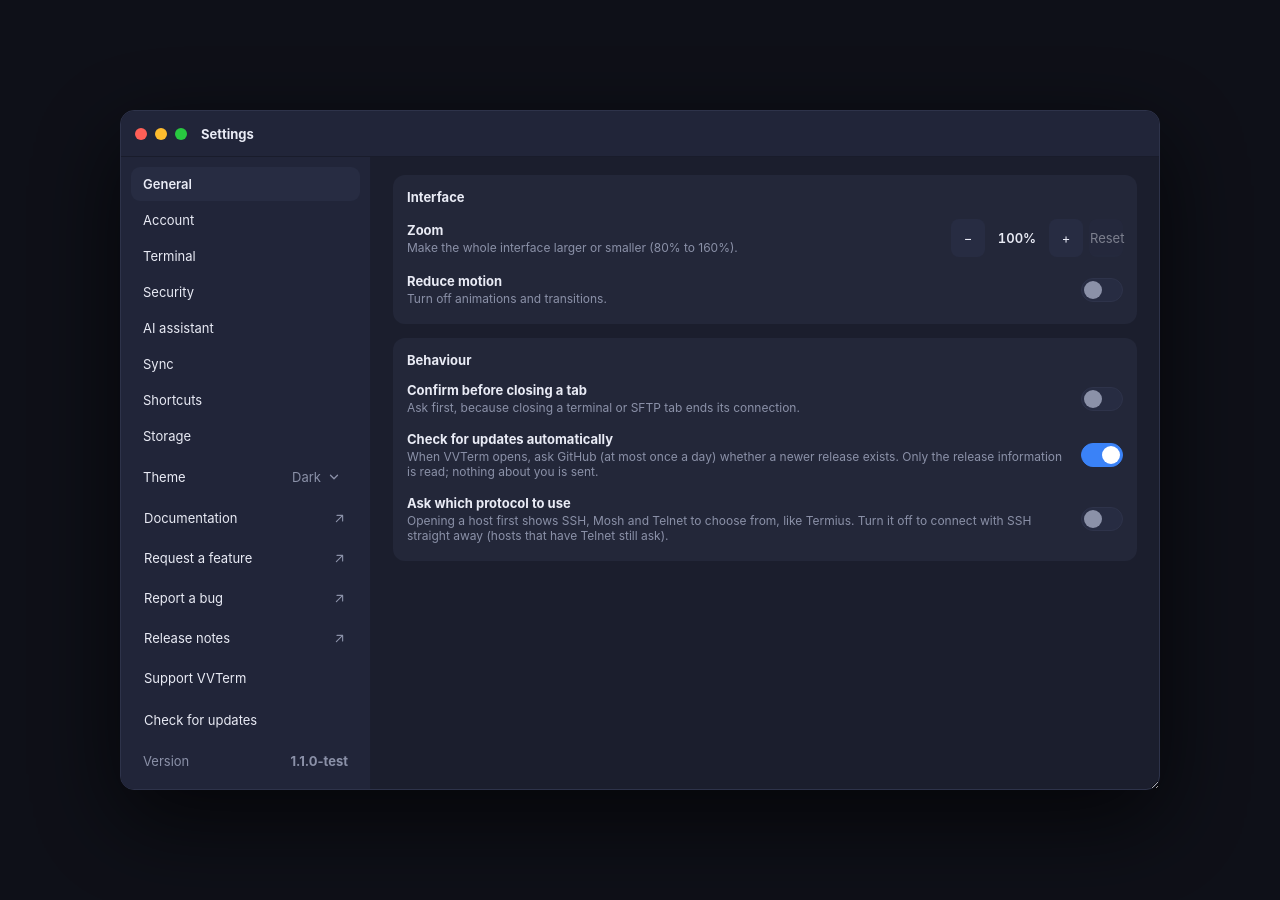
SettingsWindow › shows a backend validation error as a toast and keeps the old value
Click the tab "Terminal".
click(246, 256)  # box x1=131 y1=239 x2=360 y2=273
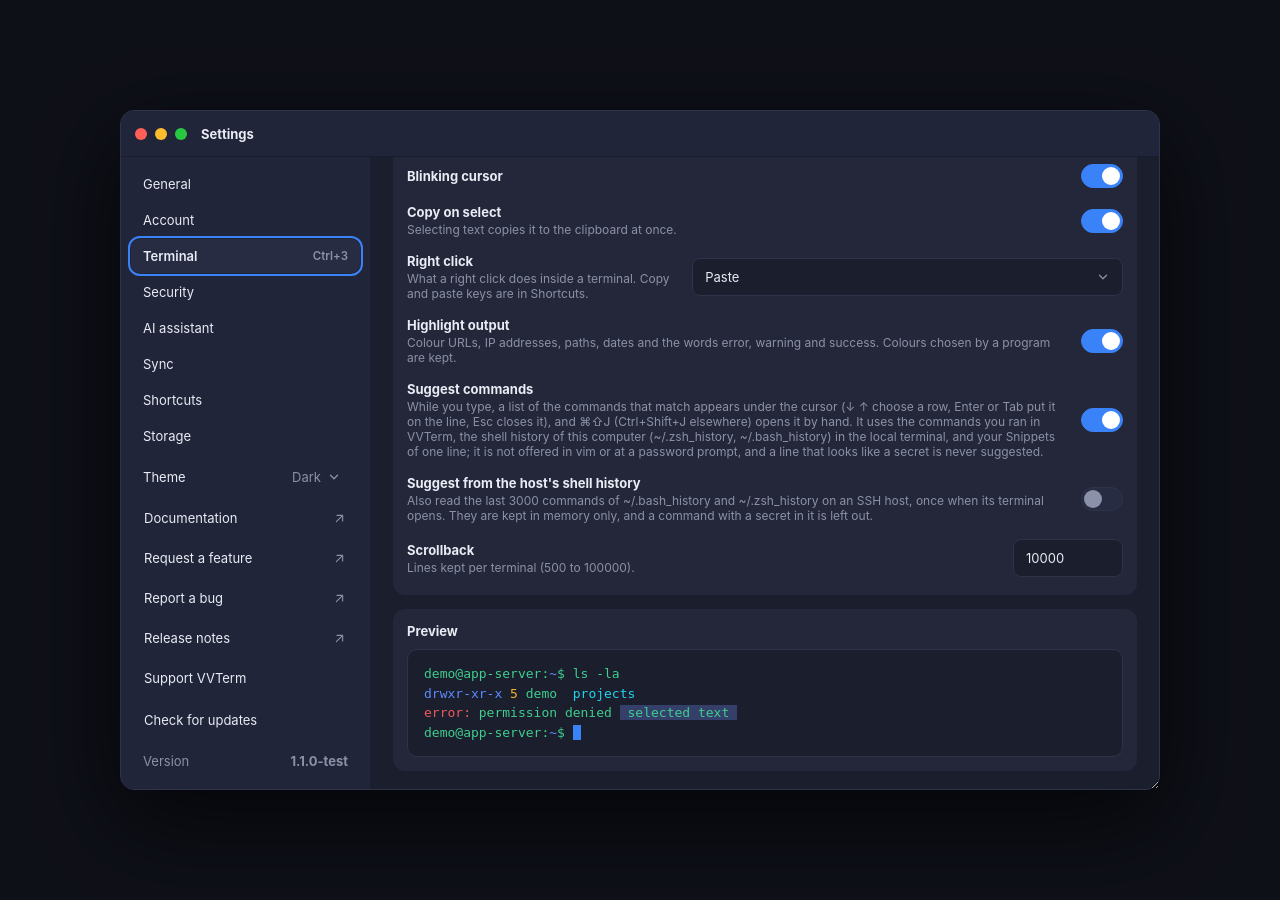
Replace the text in the number field named "Scrollback lines" with "5" at (1068, 558), box x1=1013 y1=539 x2=1123 y2=577
Then press Enter
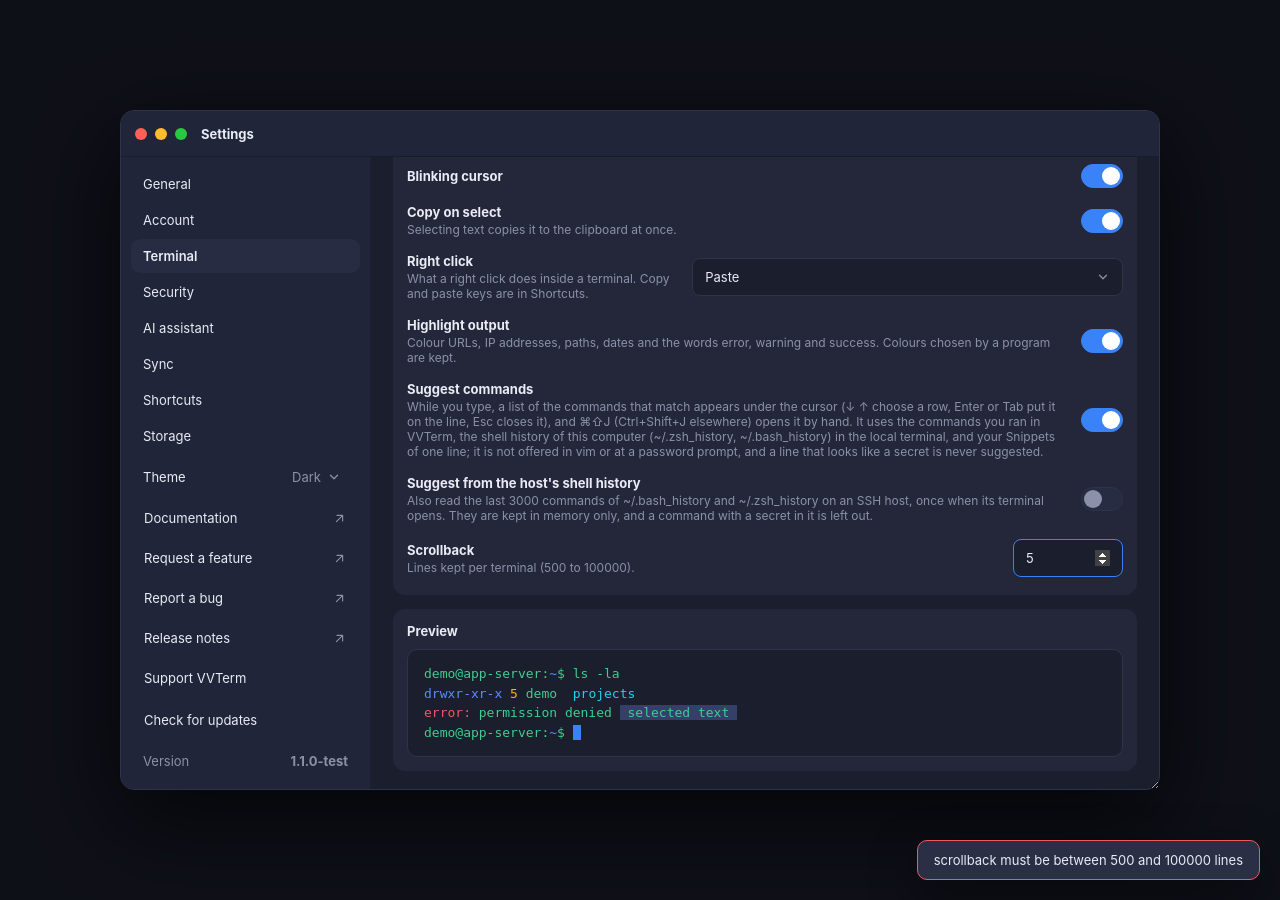
Result: the message shows "scrollback must be" at x1=934 y1=852 x2=1243 y2=868
